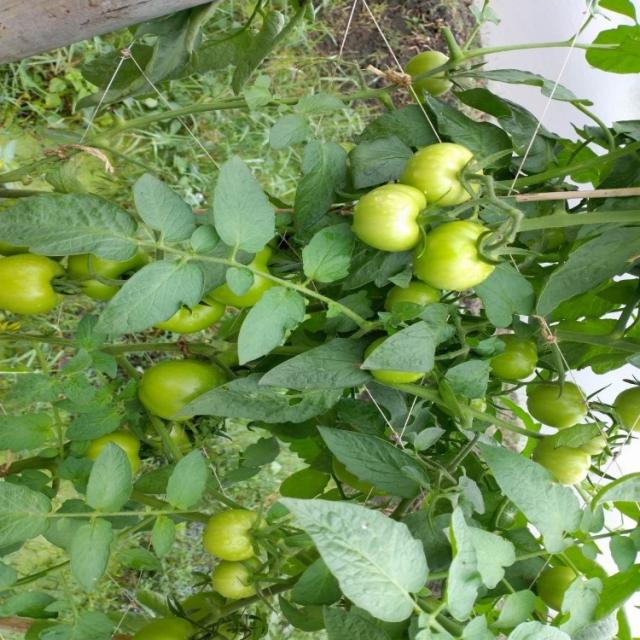tomato: (414, 212, 515, 300), (406, 137, 493, 211), (139, 350, 217, 428), (213, 242, 293, 316), (356, 183, 432, 252), (1, 249, 70, 322), (532, 437, 609, 501), (64, 244, 147, 299), (209, 505, 275, 569), (411, 46, 459, 113), (209, 558, 275, 603), (537, 377, 593, 430), (155, 298, 229, 338), (496, 329, 539, 396), (613, 375, 640, 438)
